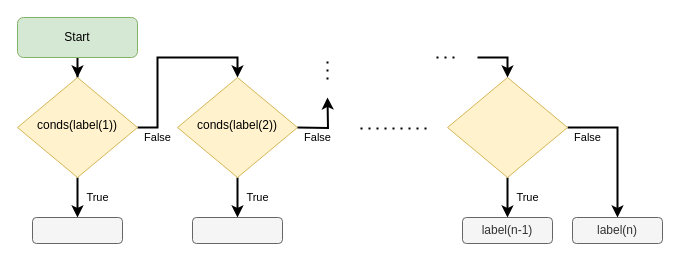
Image size: 680x261. Some labels were removed from this diagram. The centre of each missing label's shape, as x and y in pixels:
"conds(label(n-1))" belongs at pixel 507 127.
"label(1)" belongs at pixel 77 230.
"label(2)" belongs at pixel 237 230.
